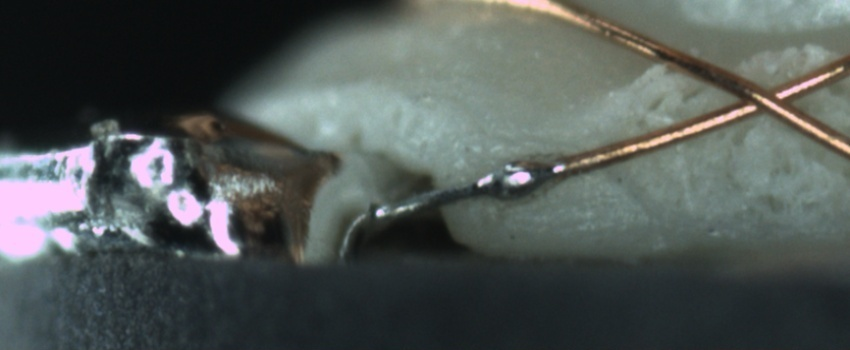CL: (713, 67, 817, 127)
TB: (485, 155, 548, 204)
TS: (385, 159, 570, 221)
TTCW: (365, 141, 621, 219)
